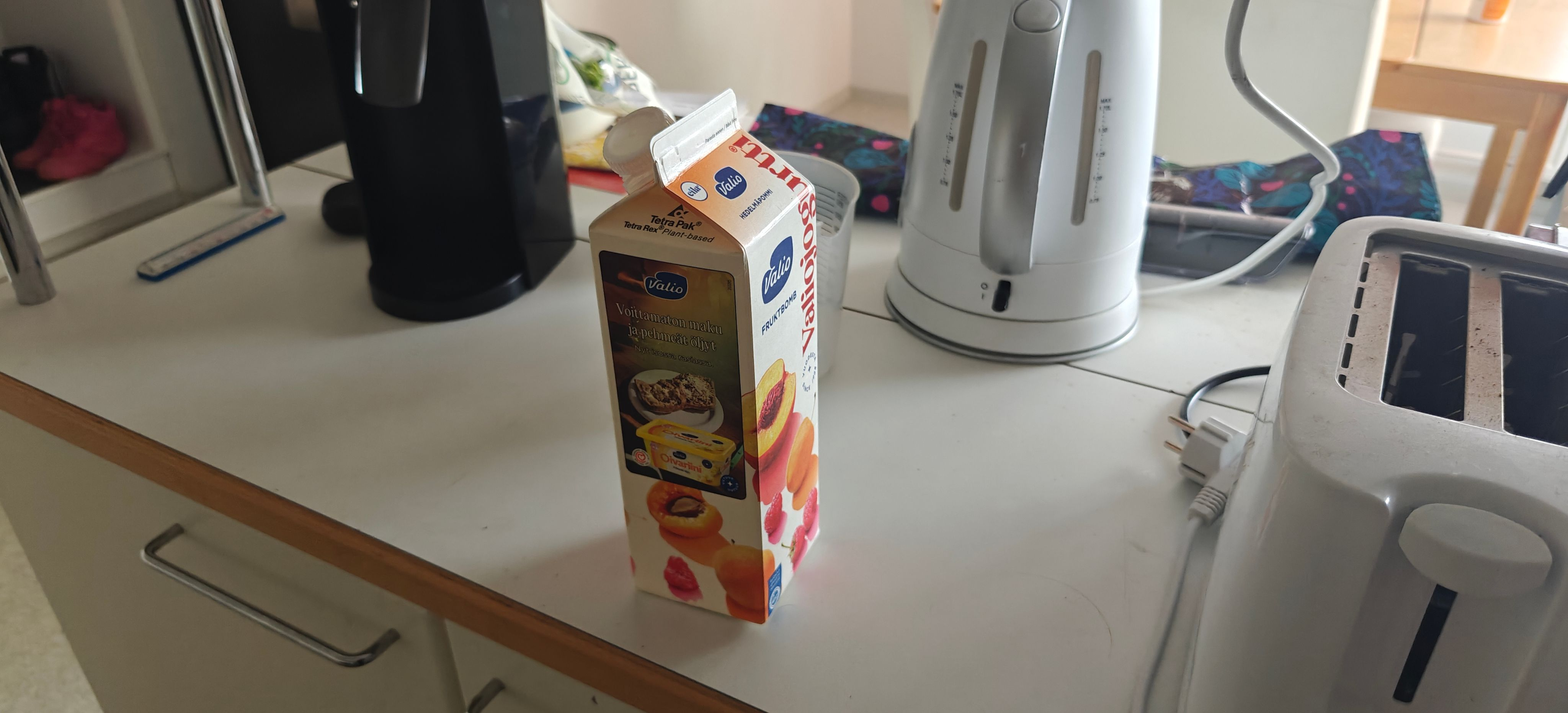Dryckeskartong: (588, 90, 818, 624)
